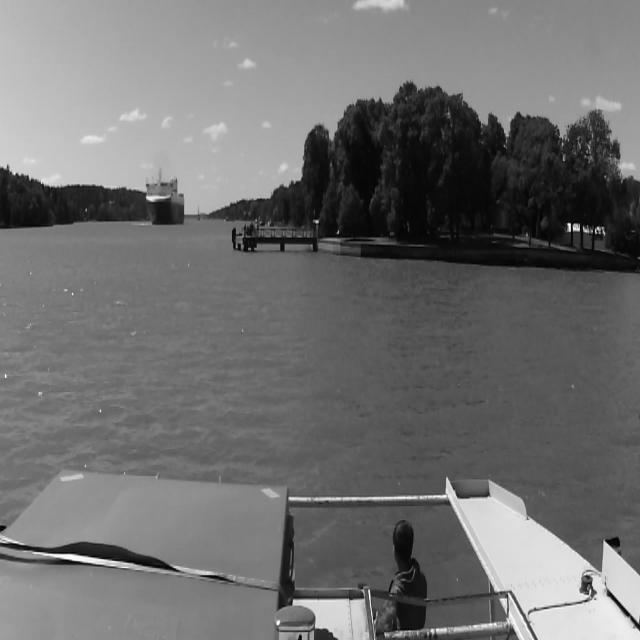ship: (143, 168, 184, 225)
